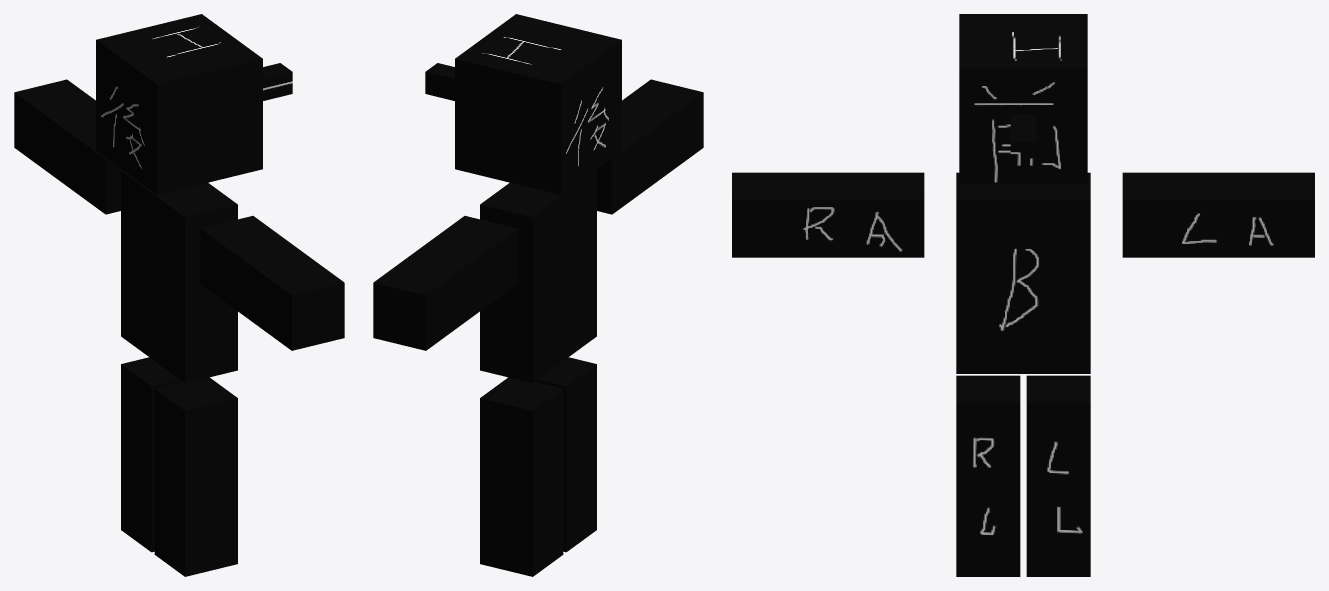
The model's file is human.obj.
3 renders of one model, left to right at view 1: azimuth 30°, elevation 25°; view 2: azimuth 150°, elevation 25°; view 3: azimuth 270°, elevation 25°, orthographic. The views are drawn at different scales.
Parts seen in each view (by area): view 1: head_立方体.003; view 2: head_立方体.003; view 3: head_立方体.003.
Part boxes in pixels (x1=…): head_立方体.003: x1=14, y1=14, x2=344, y2=576; head_立方体.003: x1=373, y1=14, x2=703, y2=576; head_立方体.003: x1=732, y1=14, x2=1314, y2=576.
Bounding box in the file's own units: 3.02 × 9 × 9.1.
1 material, 1 textured.
